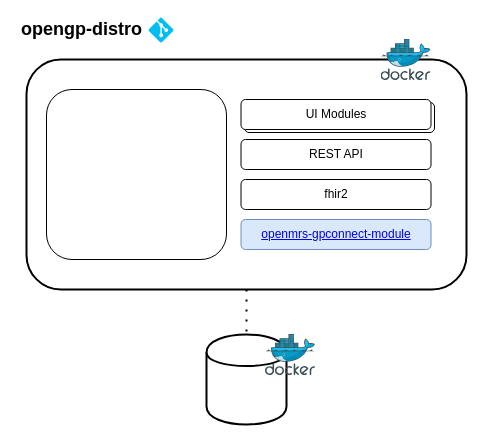
The diagram is 484 pixels wide and 442 high, and some of its shapes have lost their labels. The shapes that lost their labels are listed below. From the top down, each one's centre as x and y in pixels, then its label:
At (x=136, y=174): "OpenMRS - Core".
At (x=246, y=379): "MySQL".
